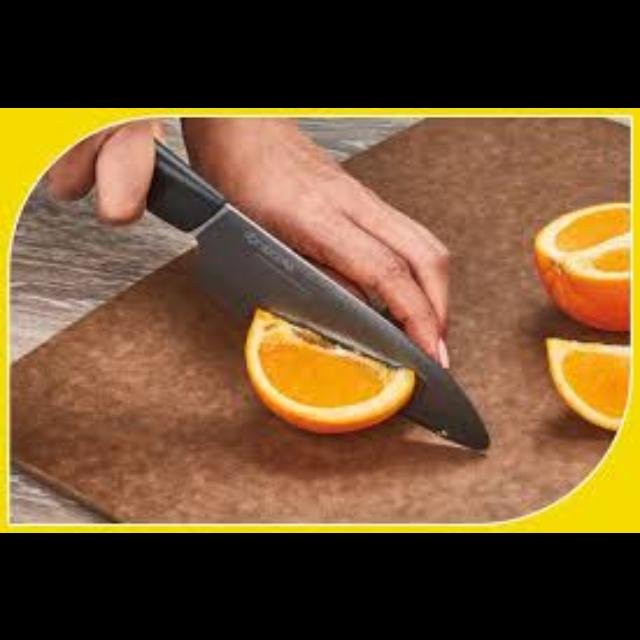knife: (145, 133, 489, 449)
